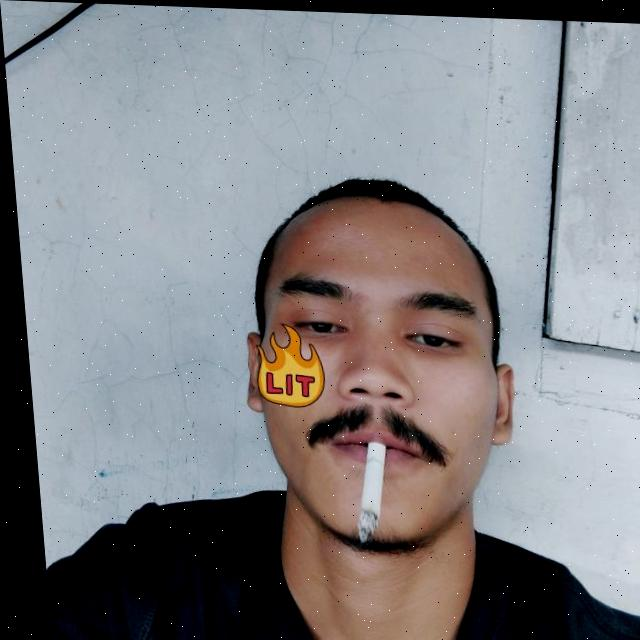cigarette: (341, 439, 384, 541)
